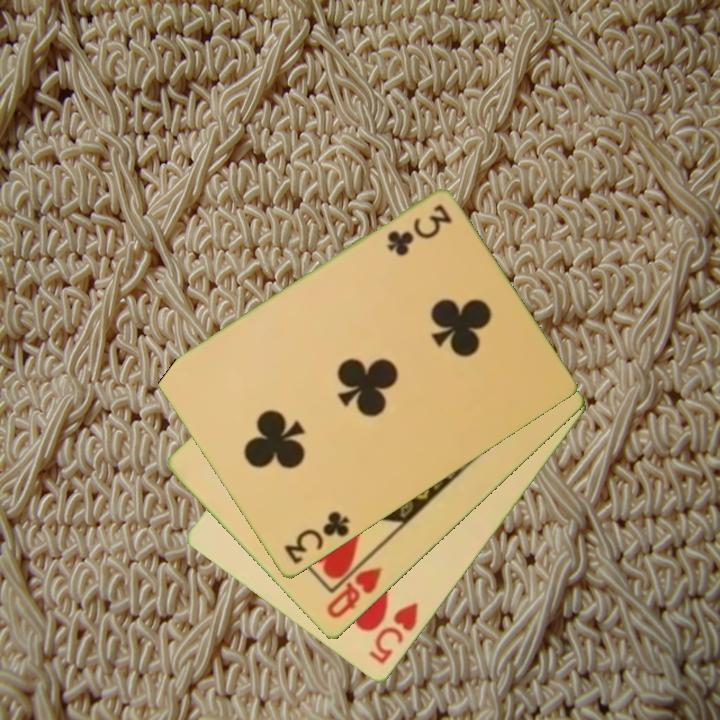3c: (280, 508, 353, 568), (383, 201, 455, 259)
5h: (365, 600, 422, 668)
Qh: (323, 564, 385, 622)
